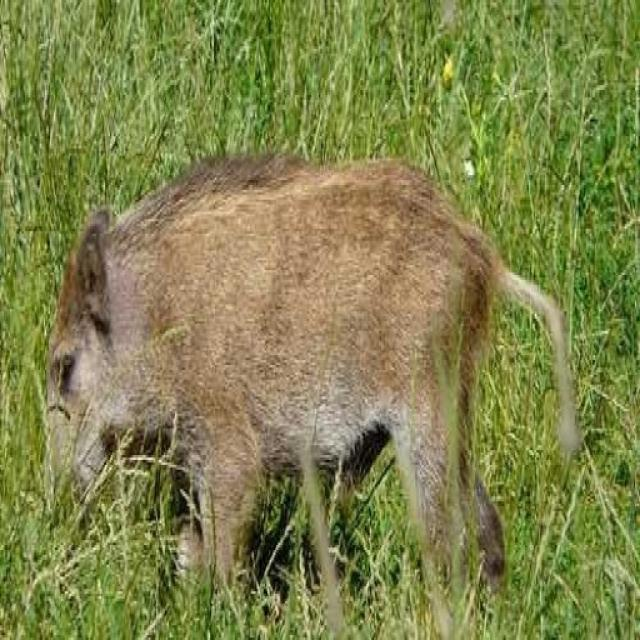pig: (36, 115, 560, 603)
